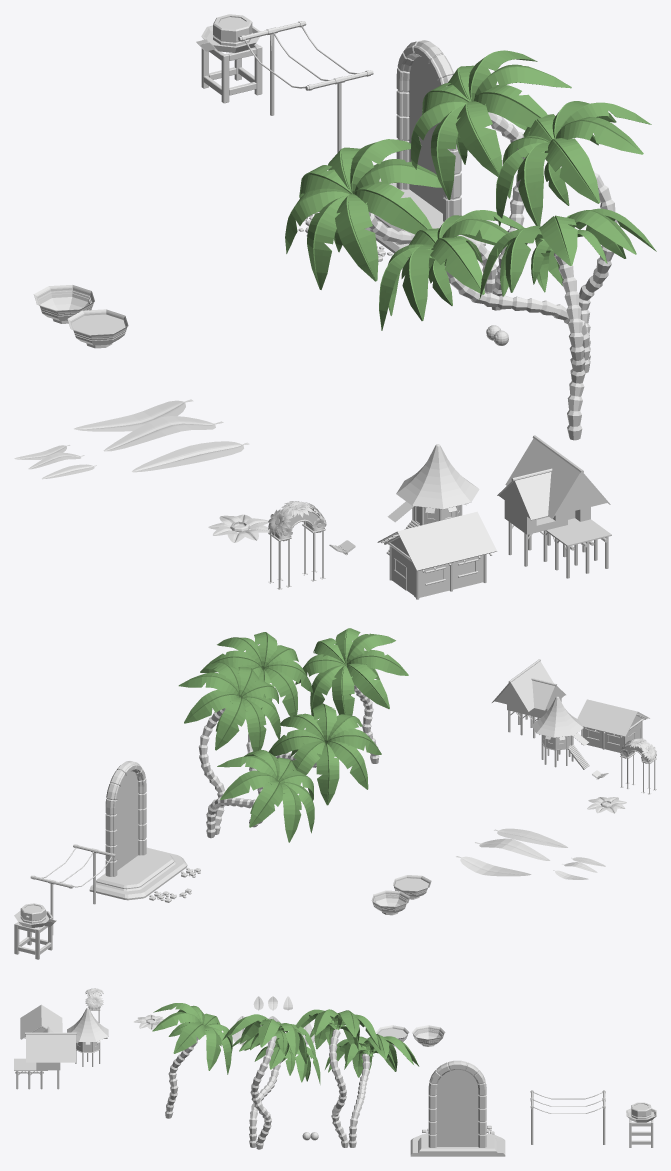
File: Environment.fbx
3 renders of one model, top to bottom at view 1: azimuth 30°, elevation 25°; view 2: azimuth 150°, elevation 25°; view 3: azimuth 270°, elevation 25°, orthographic. The views are drawn at different scales.
Parts seen in each view (by area): view 1: CoconutTree_10.001, CoconutTree_10.002, CoconutTree_10.003, Plane.003, Plane, Plane.004, Circle.012, Circle.003, Circle.011, Circle.004, Circle.001, Plane.001 (+12 smaller); view 2: CoconutTree_10.001, CoconutTree_10.002, Plane, CoconutTree_10.003, Plane.003, Plane.001, Circle.001, Plane.004, Circle.012, Circle.011, Circle.027, Circle.013 (+6 smaller); view 3: CoconutTree_10.001, Plane, CoconutTree_10.002, Plane.001, CoconutTree_10.003, Circle.001, Circle.003, Plane.003, Plane.004, Circle.012, Circle.011, Circle.004 (+5 smaller).
Boxes of the visible parts, x1,y1,x2,y2 form: CoconutTree_10.001: [285, 50, 571, 289]; CoconutTree_10.002: [379, 101, 651, 330]; CoconutTree_10.003: [479, 208, 656, 299]; Plane.003: [497, 438, 610, 520]; Plane: [298, 40, 485, 261]; Plane.004: [196, 14, 262, 103]; Circle.012: [377, 511, 496, 570]; Circle.003: [445, 172, 617, 373]; Circle.011: [396, 444, 479, 509]; Circle.004: [554, 253, 585, 440]; Circle.001: [368, 112, 524, 310]; Plane.001: [408, 56, 443, 213]; CoconutTree_10.001: [178, 662, 314, 842]; CoconutTree_10.002: [200, 632, 381, 805]; Plane: [89, 761, 200, 902]; CoconutTree_10.003: [295, 628, 408, 716]; Plane.003: [492, 661, 565, 711]; Plane.001: [116, 771, 138, 870]; Circle.001: [198, 708, 255, 838]; Plane.004: [14, 903, 56, 959]; Circle.012: [577, 699, 649, 736]; Circle.011: [531, 696, 583, 737]; Circle.027: [371, 890, 410, 915]; Circle.013: [583, 715, 641, 752]; CoconutTree_10.001: [295, 1009, 419, 1077]; Plane: [410, 1060, 505, 1156]; CoconutTree_10.002: [222, 1014, 320, 1084]; Plane.001: [436, 1069, 478, 1146]; CoconutTree_10.003: [152, 1003, 232, 1074]; Circle.001: [329, 1029, 370, 1147]; Circle.003: [249, 1036, 282, 1149]; Plane.003: [26, 1028, 75, 1062]; Plane.004: [626, 1102, 656, 1147]; Circle.012: [20, 1004, 62, 1038]; Circle.011: [67, 1007, 108, 1041]; Circle.004: [165, 1036, 198, 1118].
Size of the model in its own units: 3157 by 1267 by 5360.
